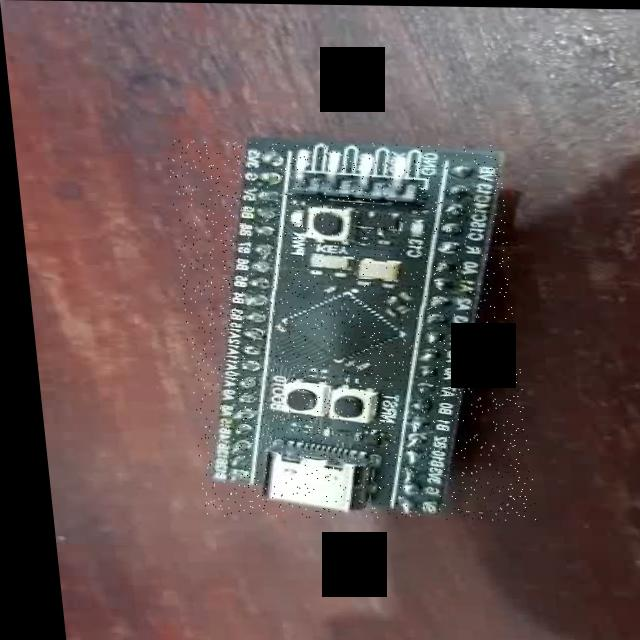stm32: (163, 140, 526, 520)
